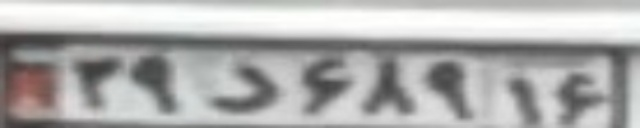1: (507, 74, 542, 123)
2: (70, 55, 119, 111)
6: (553, 70, 610, 123), (299, 57, 352, 111)
8: (362, 56, 414, 115)
9: (130, 53, 183, 114), (425, 60, 475, 120)
dal: (205, 65, 276, 111)
